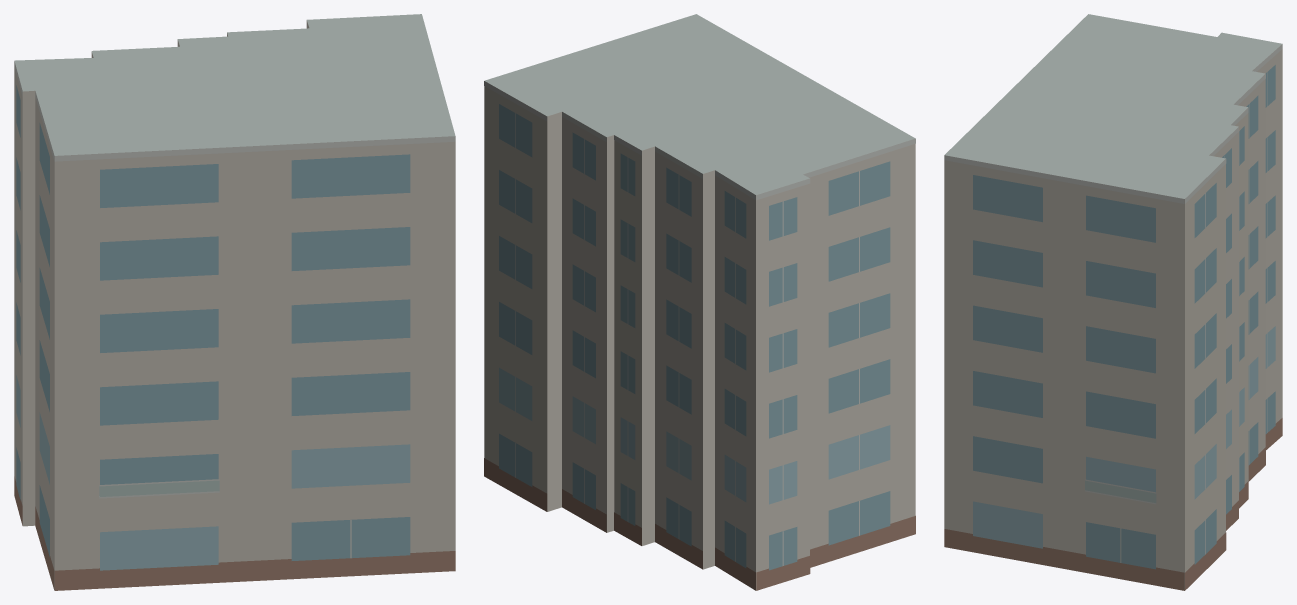
Rendered from survey-upis-32984028.glb.
The picture shows the model from 3 angles, left to right: view 1: azimuth 30°, elevation 25°; view 2: azimuth 150°, elevation 25°; view 3: azimuth 270°, elevation 25°; orthographic projection. The views are drawn at different scales.
Parts seen in each view (by area): view 1: survey-upis-32984028.tmp; view 2: survey-upis-32984028.tmp; view 3: survey-upis-32984028.tmp.
Boxes of the visible parts, x1,y1,x2,y2 form: survey-upis-32984028.tmp: (14,14,455,590); survey-upis-32984028.tmp: (484,14,915,590); survey-upis-32984028.tmp: (944,14,1282,590).
Size of the model in its own units: 19.1 by 18.85 by 14.76.
